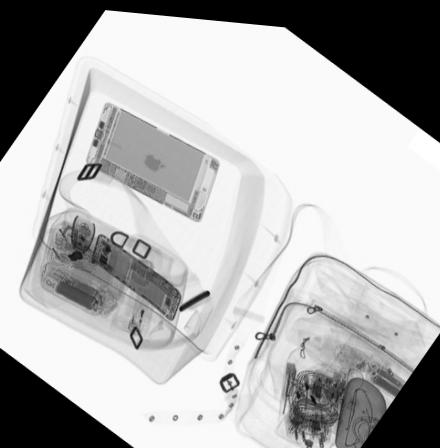Lighter: (126, 280, 151, 330)
